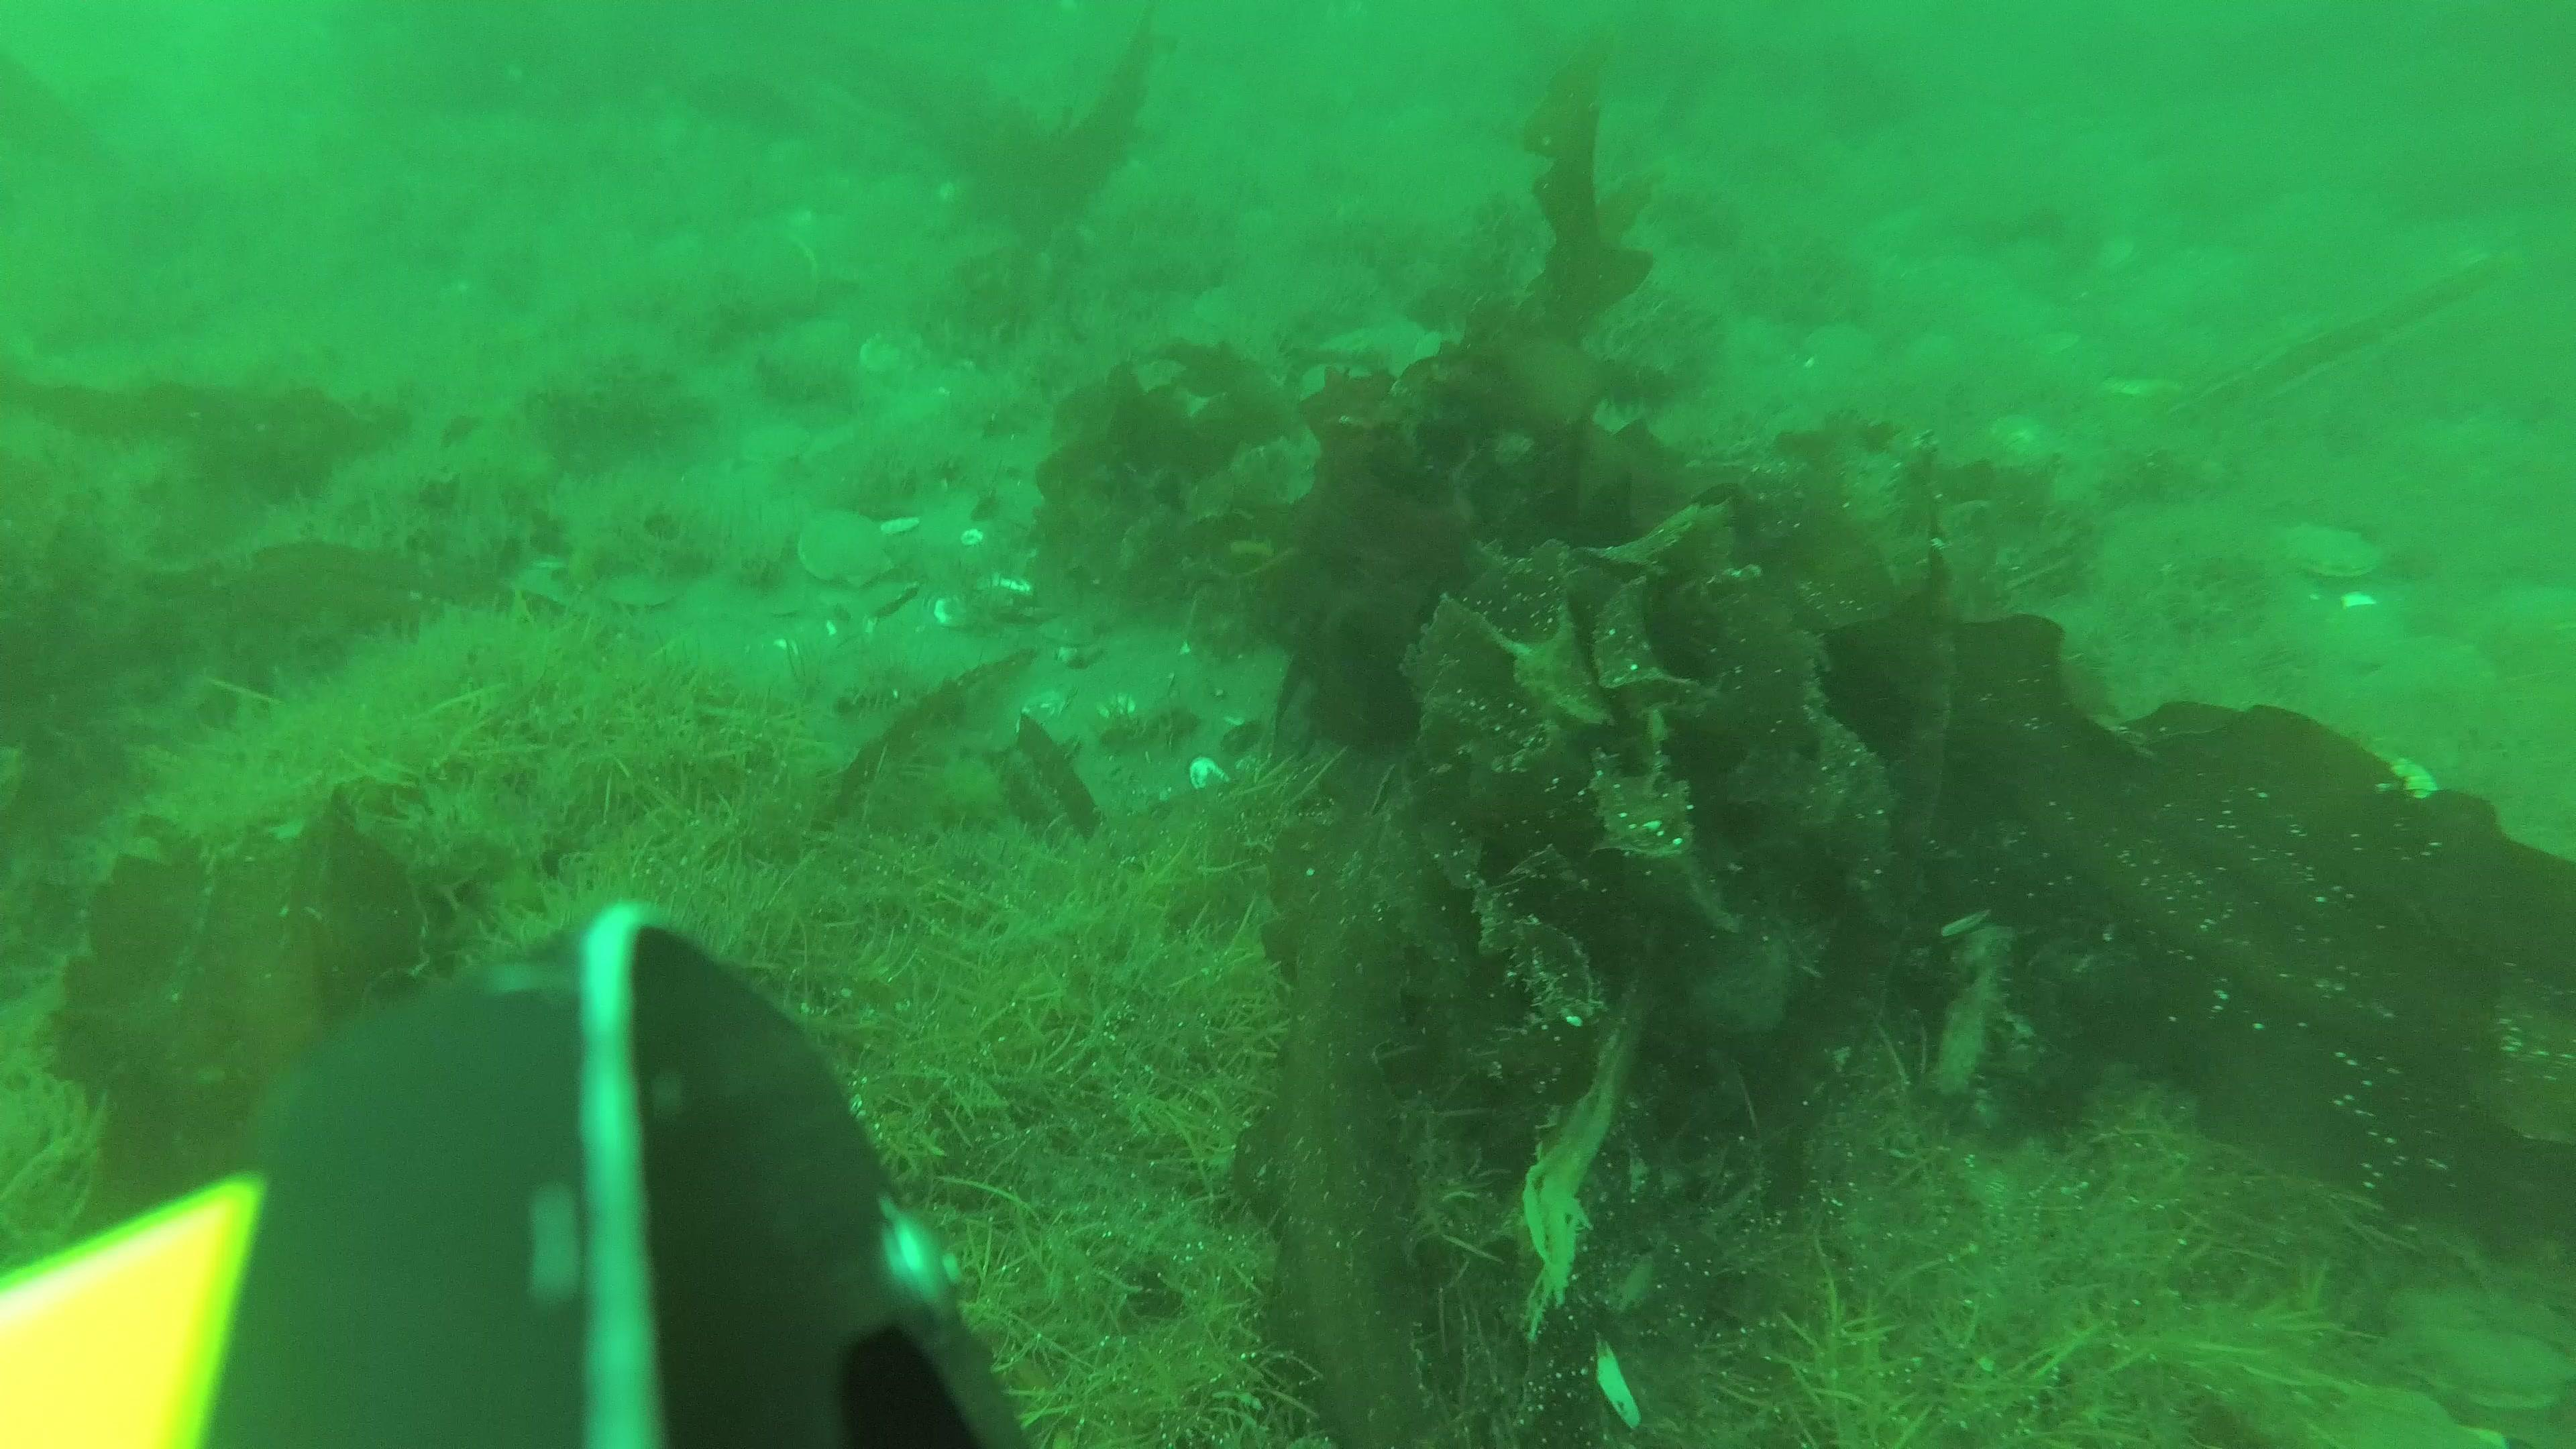scallop: (2376, 1254, 2576, 1422), (791, 510, 902, 591), (2335, 1380, 2465, 1445), (725, 237, 826, 320), (2282, 515, 2387, 587), (814, 571, 920, 625), (738, 414, 817, 472), (858, 327, 936, 380), (607, 568, 694, 610)
